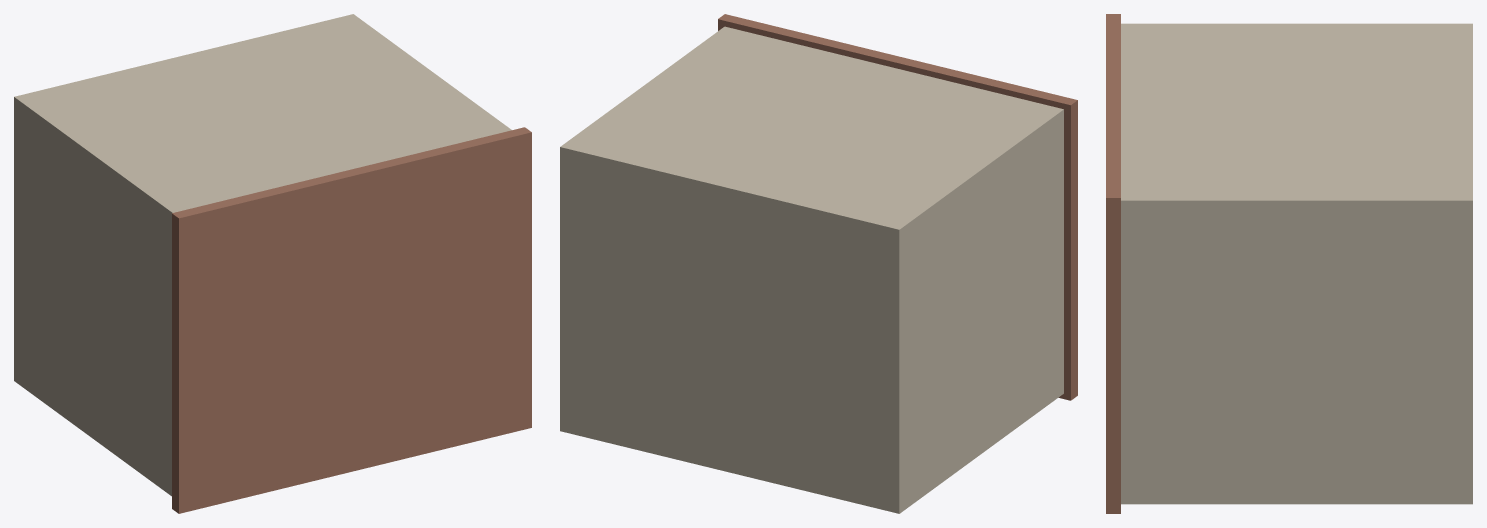
Rendered from city_house_01.glb.
3 renders of one model, left to right at view 1: azimuth 30°, elevation 25°; view 2: azimuth 150°, elevation 25°; view 3: azimuth 270°, elevation 25°, orthographic. The views are drawn at different scales.
Visible parts, largest first — view 1: roof, main; view 2: main, roof; view 3: main, roof.
Part boxes in pixels (x1,y1,x2,y2): roof: (172,127,531,513); main: (14,14,511,496); main: (560,26,1063,513); roof: (718,14,1077,400); main: (1121,23,1472,504); roof: (1106,14,1120,513).
Size of the model in its own units: 5.2 by 4.16 by 4.38.
